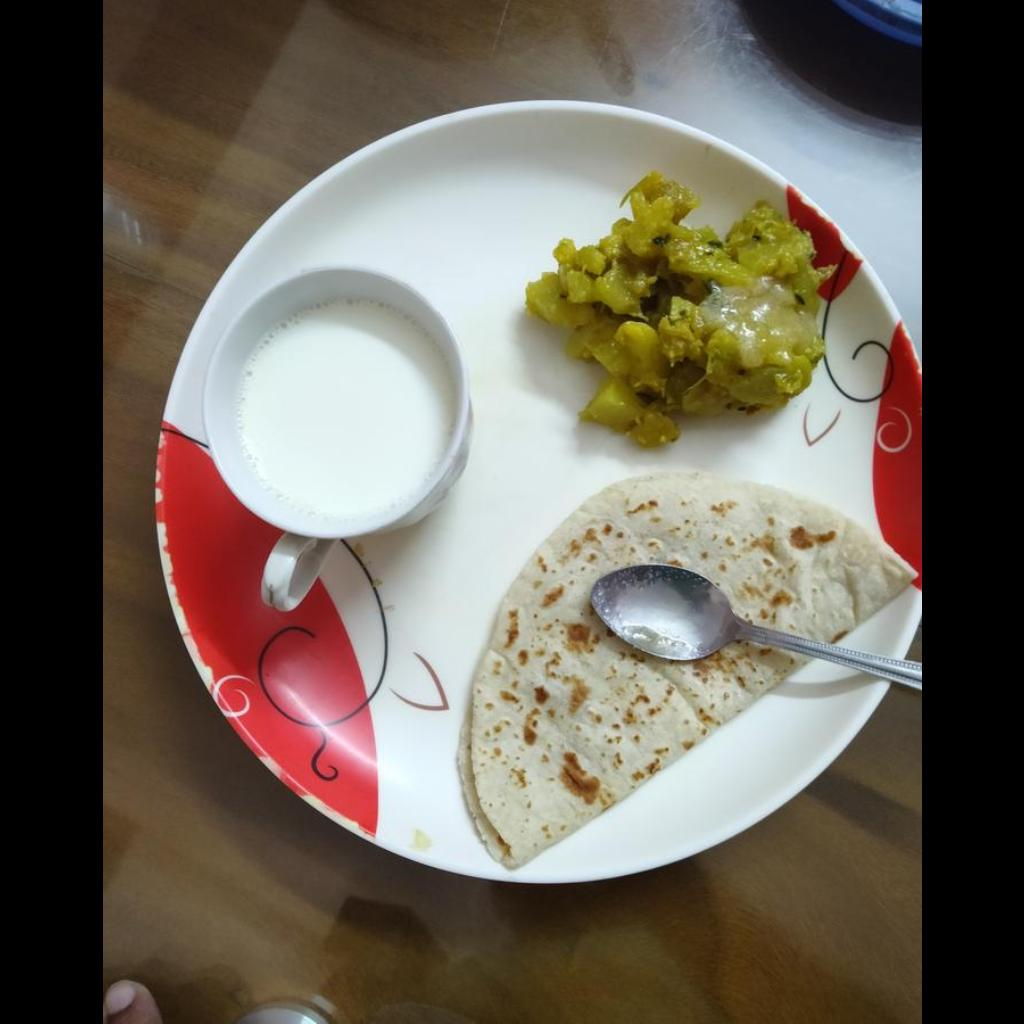milk: (235, 302, 441, 511)
ruti: (451, 476, 915, 868)
vaji: (520, 175, 836, 440)
